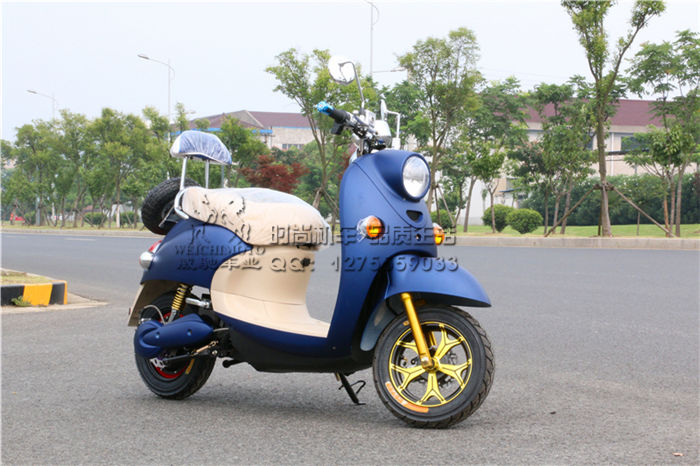电动车: (122, 56, 506, 434)
